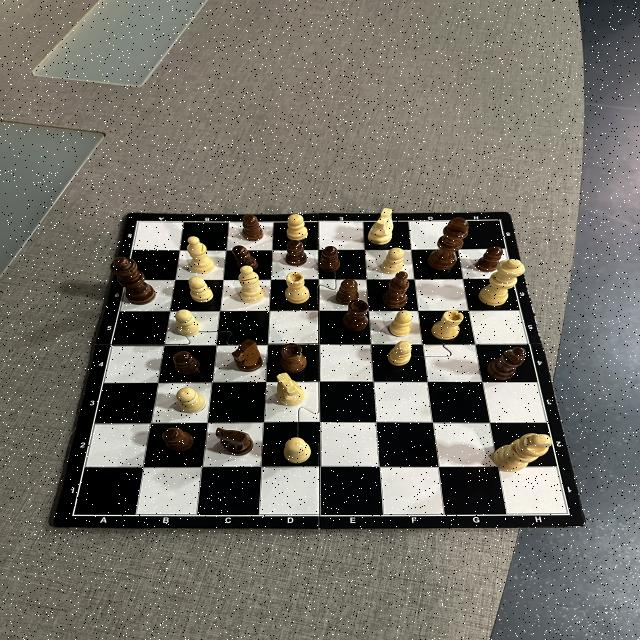Black-Bishop: (486, 346, 526, 381), (382, 271, 409, 309)
Black-King: (427, 217, 469, 270)
Black-Knight: (216, 427, 253, 456), (231, 340, 263, 372)
Black-Pawn: (162, 428, 194, 452), (476, 246, 503, 272), (172, 351, 200, 375), (232, 245, 258, 270), (336, 279, 360, 305), (242, 214, 264, 242), (318, 246, 341, 272), (285, 240, 307, 266)
Black-Queen: (110, 256, 156, 304)
Black-Rook: (342, 298, 371, 332), (280, 343, 308, 373)
White-Bishop: (187, 236, 216, 274), (238, 266, 266, 304)
White-King: (494, 432, 552, 472)
White-Knight: (431, 310, 464, 340), (276, 372, 304, 407), (368, 208, 393, 245)
White-Pawn: (284, 437, 312, 464), (176, 388, 206, 413), (175, 308, 200, 336), (188, 277, 214, 303), (389, 310, 413, 336), (381, 248, 405, 274), (388, 341, 412, 366), (286, 214, 308, 240)
White-Queen: (478, 258, 526, 306)
White-Rook: (284, 272, 310, 304)
